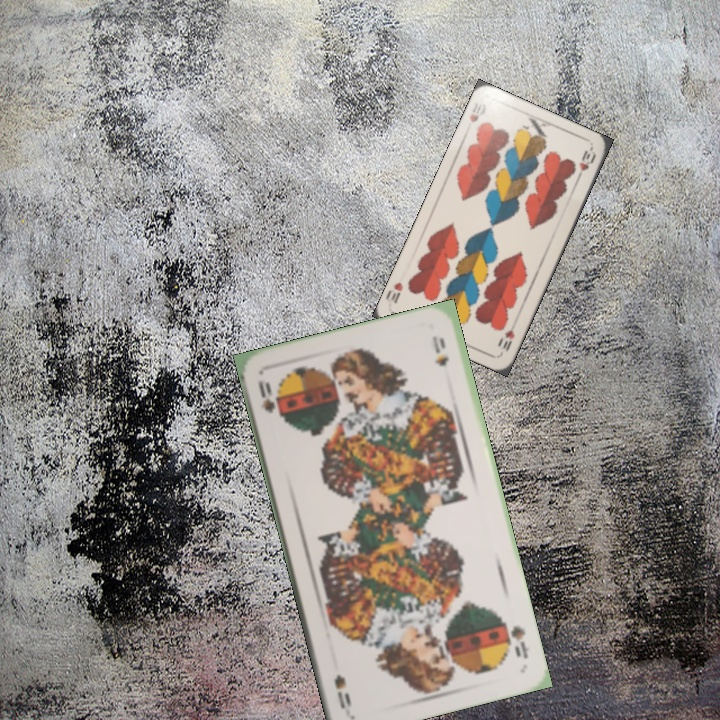H10: (499, 318, 519, 354), (465, 98, 481, 125)
SO: (500, 618, 533, 661), (254, 376, 284, 420)
